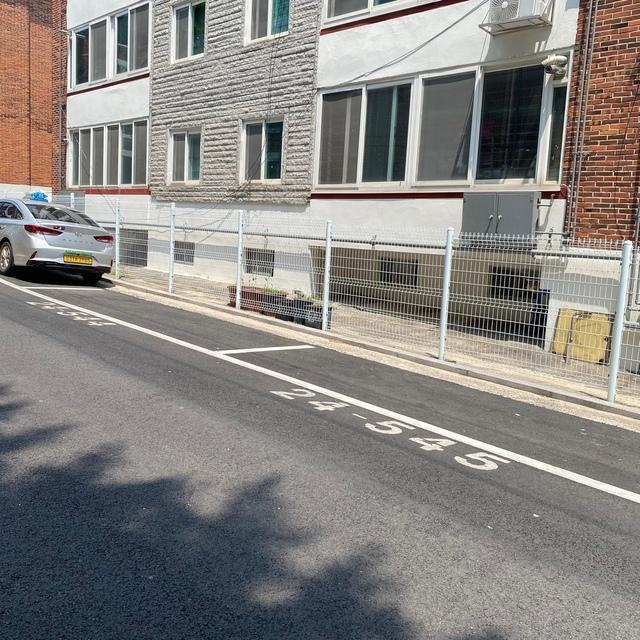empty: (201, 342, 640, 508), (14, 284, 328, 360)
